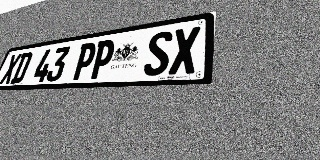3: (45, 46, 71, 82)
4: (31, 48, 56, 82)
D: (10, 52, 34, 84)
P: (88, 39, 117, 79), (71, 42, 98, 80)
S: (142, 30, 173, 76)
X: (168, 26, 200, 75), (0, 53, 22, 84)
